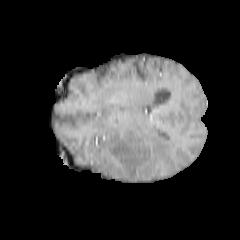glioma: (86, 121, 176, 180)
